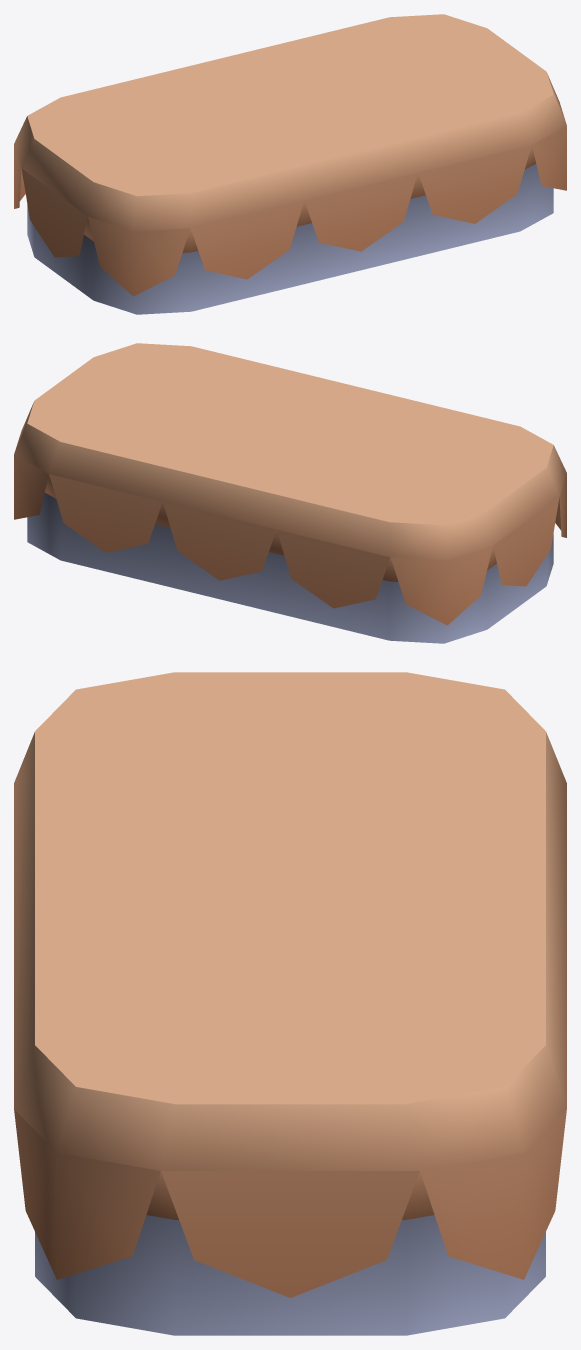
The model's file is block-grass-overhang-low-long.glb.
The picture shows the model from 3 angles, top to bottom: view 1: azimuth 30°, elevation 25°; view 2: azimuth 150°, elevation 25°; view 3: azimuth 270°, elevation 25°; orthographic projection. The views are drawn at different scales.
Visible parts, largest first — view 1: block-grass-overhang-low-long; view 2: block-grass-overhang-low-long; view 3: block-grass-overhang-low-long.
Boxes of the visible parts, bbox=[...] form: block-grass-overhang-low-long: bbox=[14, 14, 566, 314]; block-grass-overhang-low-long: bbox=[14, 343, 566, 643]; block-grass-overhang-low-long: bbox=[14, 672, 566, 1335].
Size of the model in its own units: 2.08 by 0.5 by 1.08.
